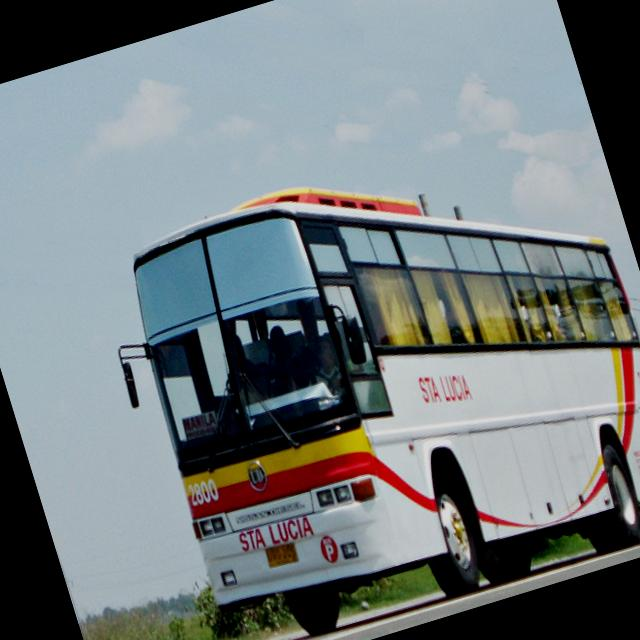Vehicle: (67, 87, 640, 640)
